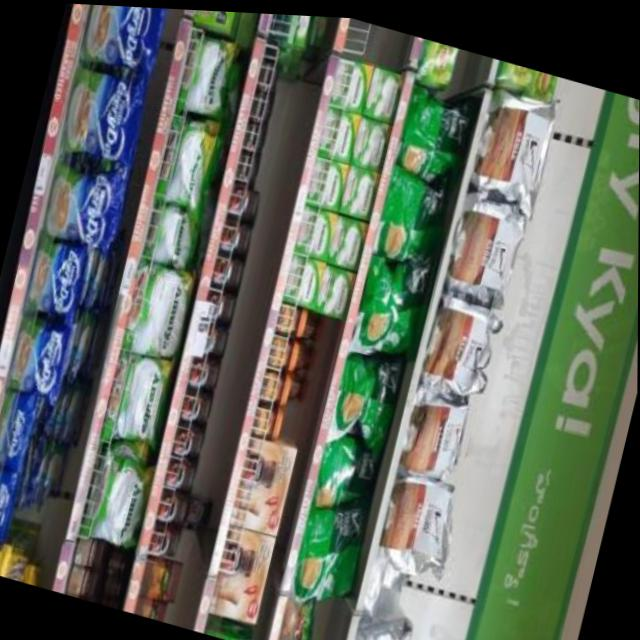Coffee: (267, 330, 301, 370), (252, 397, 285, 437), (180, 384, 213, 424), (171, 419, 205, 457), (276, 297, 309, 335), (164, 454, 197, 492), (195, 318, 228, 355), (187, 353, 220, 388), (219, 216, 251, 252), (259, 369, 291, 404), (156, 487, 188, 522), (149, 521, 181, 556), (212, 249, 244, 284), (227, 181, 259, 216), (203, 287, 235, 319), (235, 147, 258, 182), (248, 87, 271, 122), (243, 116, 265, 148), (257, 57, 276, 86)
